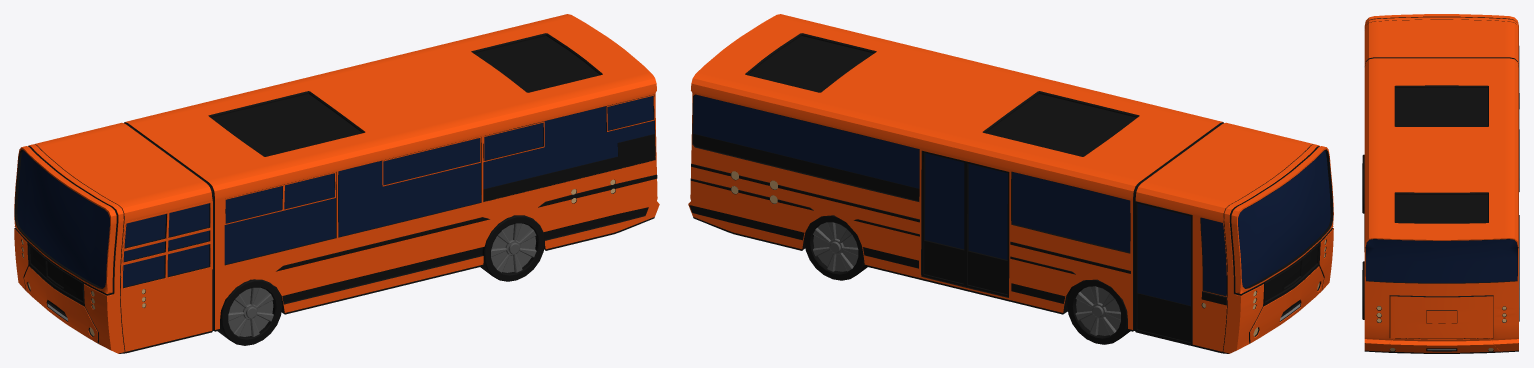
The model's file is Bus.FBX.
3 renders of one model, left to right at view 1: azimuth 30°, elevation 25°; view 2: azimuth 150°, elevation 25°; view 3: azimuth 270°, elevation 25°, orthographic. The views are drawn at different scales.
Parts seen in each view (by area): view 1: Box006; view 2: Box006; view 3: Box006.
Boxes of the visible parts, box(x1,y1,x2,y2) form: Box006: box(14, 14, 659, 353); Box006: box(688, 14, 1333, 353); Box006: box(1362, 14, 1519, 353).
Bounding box in the file's own units: 126 × 36.6 × 35.39.
